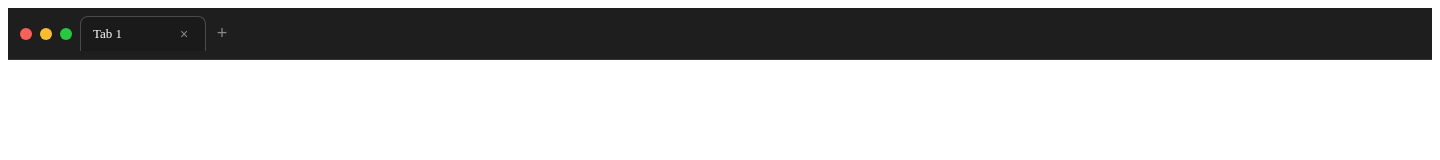
Test case: TabBar › closes tab when clicking close button
This screenshot has width=1440, height=160.
Expected: the text "Tab 1" is shown, [93,26,122,41]
Create a second tab so we can close one
Click the button "+". click: [222, 34]
box: [210,22,234,46]
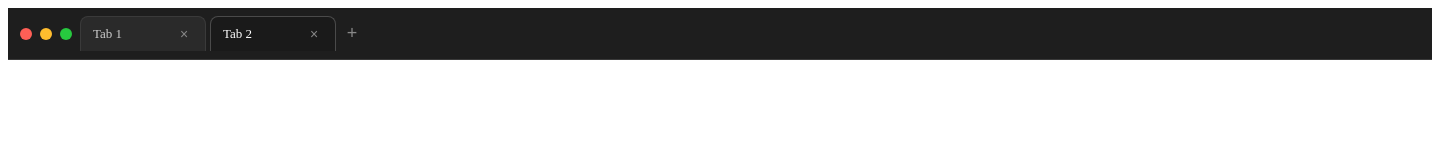
Now the text "Tab 2" is shown, box [223,26,252,41]
Close Tab 2 (the second close button)
Click the button "×" next to "Tab 2". click: [314, 34]
box: [305,25,323,43]
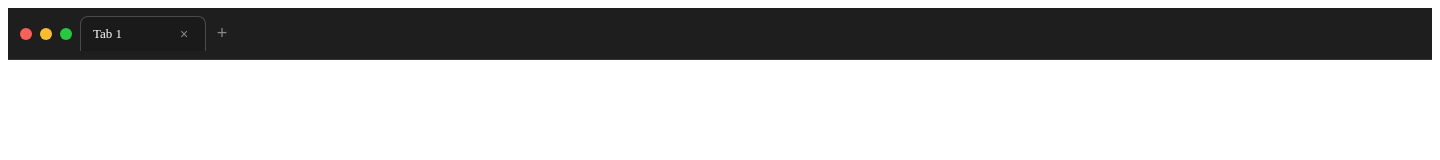
Now the text "Tab 2" is gone
